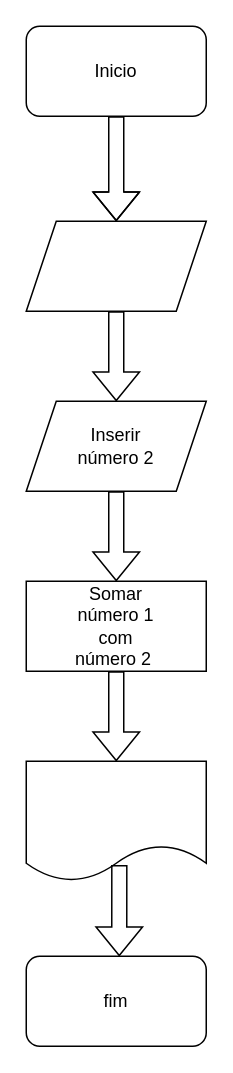
The diagram is 233 pixels wide and 1073 high, and some of its shapes have lost their labels. Each missing label, with the centre of its shape:
"Apresentar no console o resultado" belongs at point (115, 820).
"Inserir número 1" belongs at point (115, 265).
